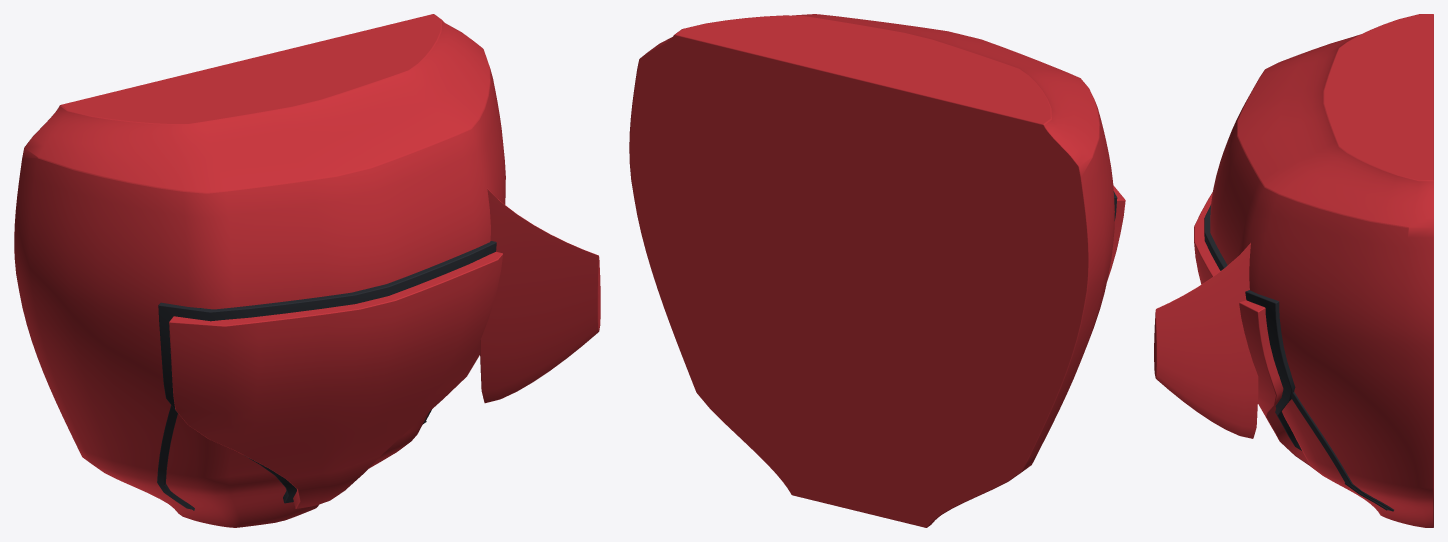
File: LowerArmFront_Set01_Ironclad.fbx
3 views of the same model, side by side, from view 1: azimuth 30°, elevation 25°; view 2: azimuth 150°, elevation 25°; view 3: azimuth 270°, elevation 25° (orthographic). The views are drawn at different scales.
Visible parts, largest first — view 1: LowerArmFront_Set01_Ironclad; view 2: LowerArmFront_Set01_Ironclad; view 3: LowerArmFront_Set01_Ironclad.
Boxes of the visible parts, x1=… form: LowerArmFront_Set01_Ironclad: x1=14, y1=14, x2=600, y2=527; LowerArmFront_Set01_Ironclad: x1=629, y1=14, x2=1125, y2=527; LowerArmFront_Set01_Ironclad: x1=1154, y1=14, x2=1433, y2=527.
Size of the model in its own units: 0.3675 by 0.33 by 0.2091.
